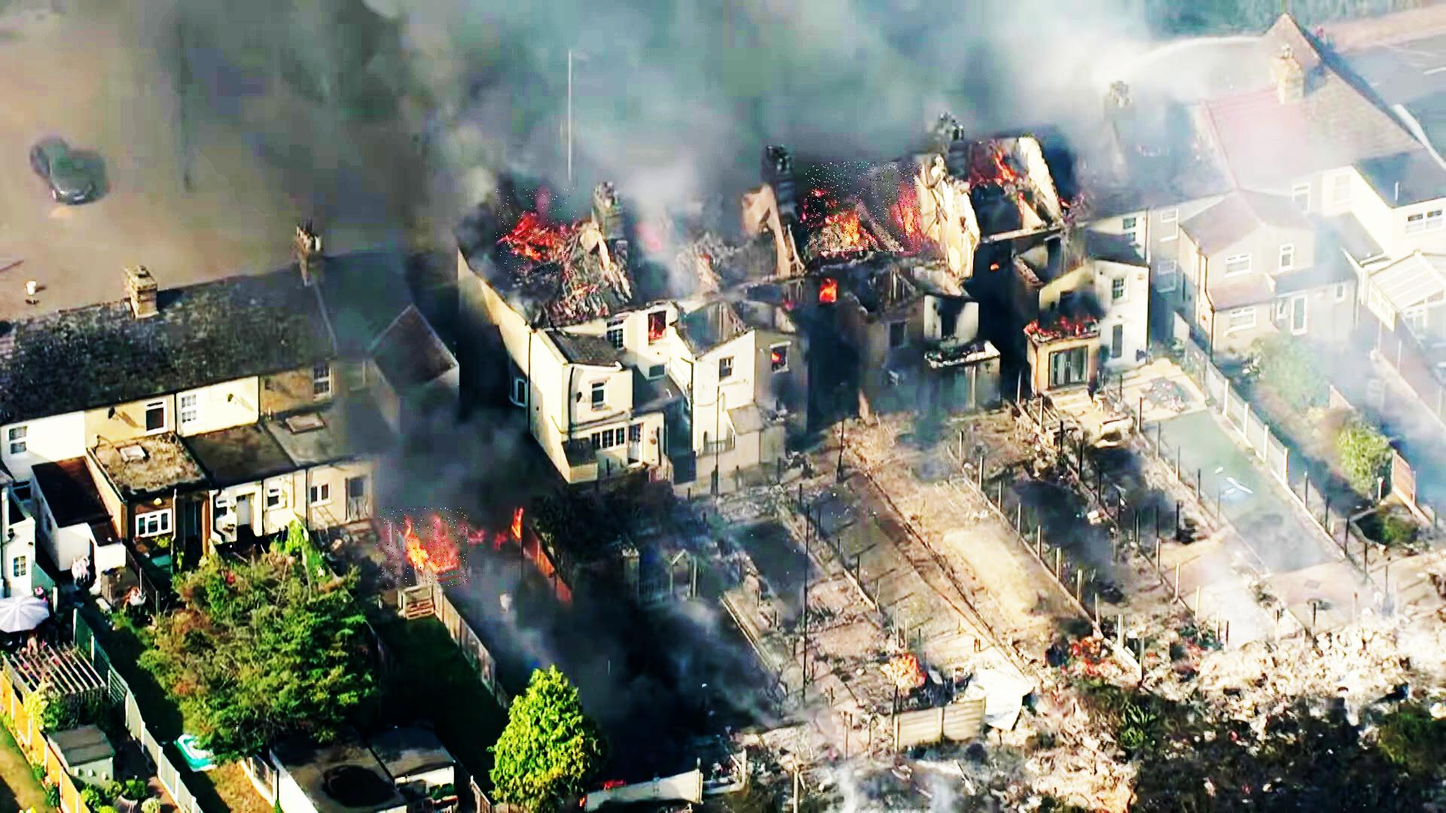fire: (806, 162, 921, 253), (377, 507, 468, 586), (496, 188, 576, 273)
